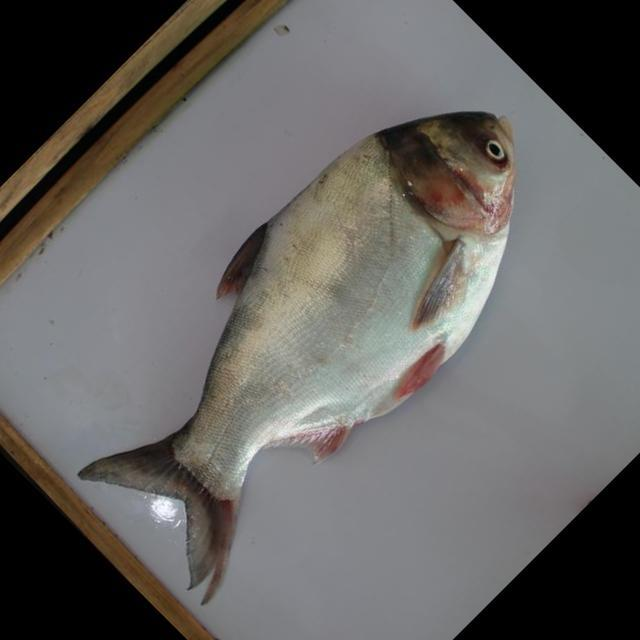SilverCarp: (83, 120, 490, 589)
